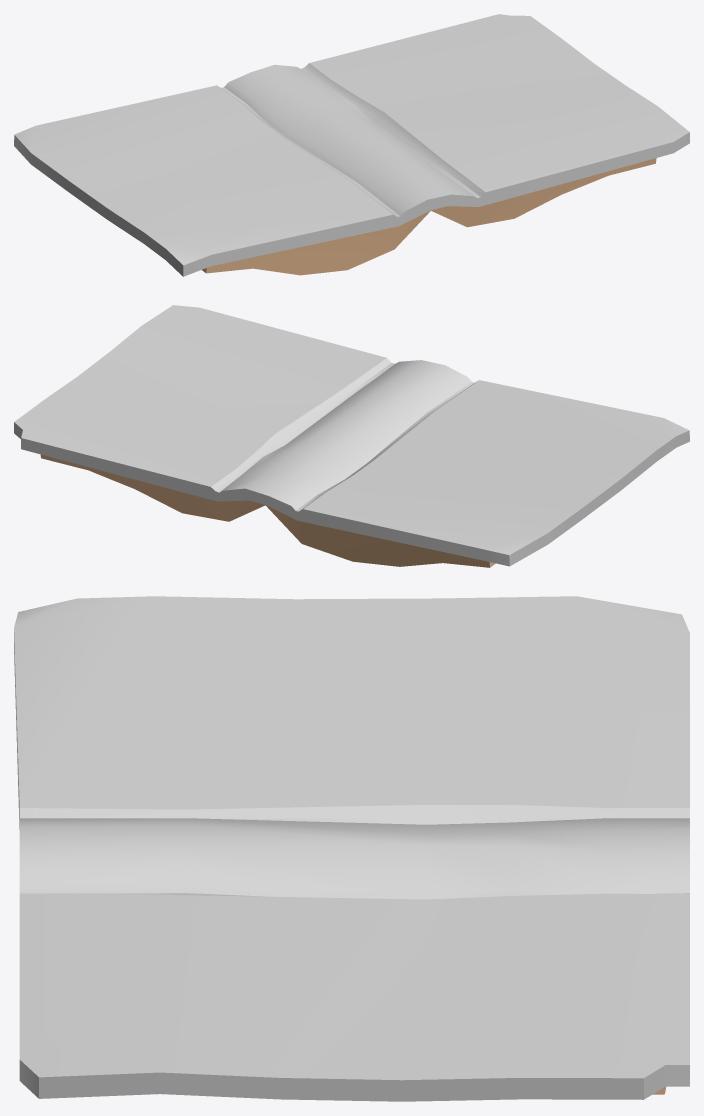
Rendered from BookOpened.glb.
The picture shows the model from 3 angles, top to bottom: view 1: azimuth 30°, elevation 25°; view 2: azimuth 150°, elevation 25°; view 3: azimuth 270°, elevation 25°; orthographic projection. The views are drawn at different scales.
Visible parts, largest first — view 1: BookOpened; view 2: BookOpened; view 3: BookOpened.
Boxes of the visible parts, x1,y1,x2,y2 form: BookOpened: (14, 14, 689, 276); BookOpened: (14, 305, 689, 567); BookOpened: (14, 596, 689, 1101).
Bounding box in the file's own units: 1.17 × 0.1269 × 0.6952.
